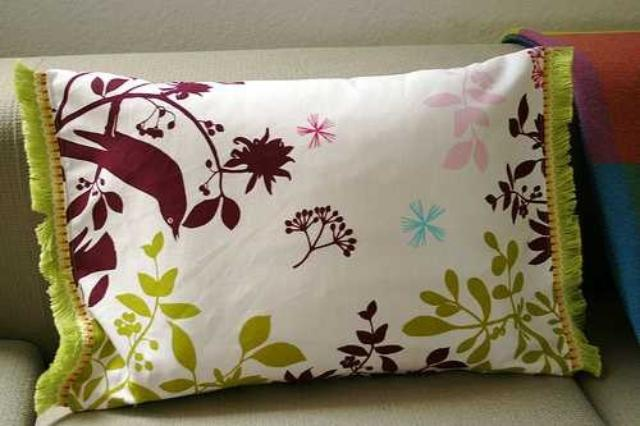pillow: (12, 43, 604, 414)
